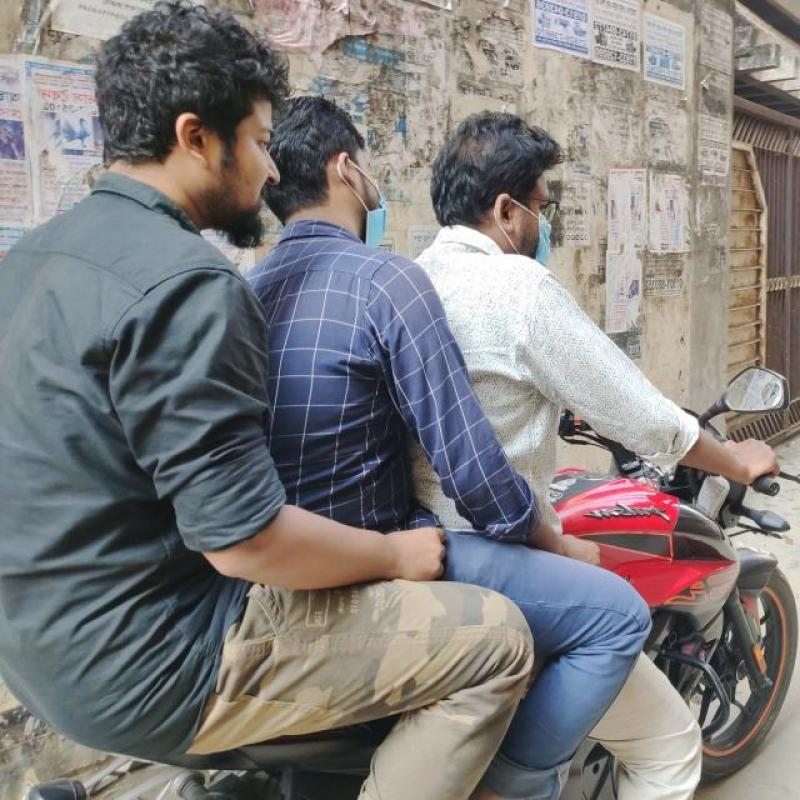nohelmet: (76, 4, 292, 207), (422, 103, 576, 257)
